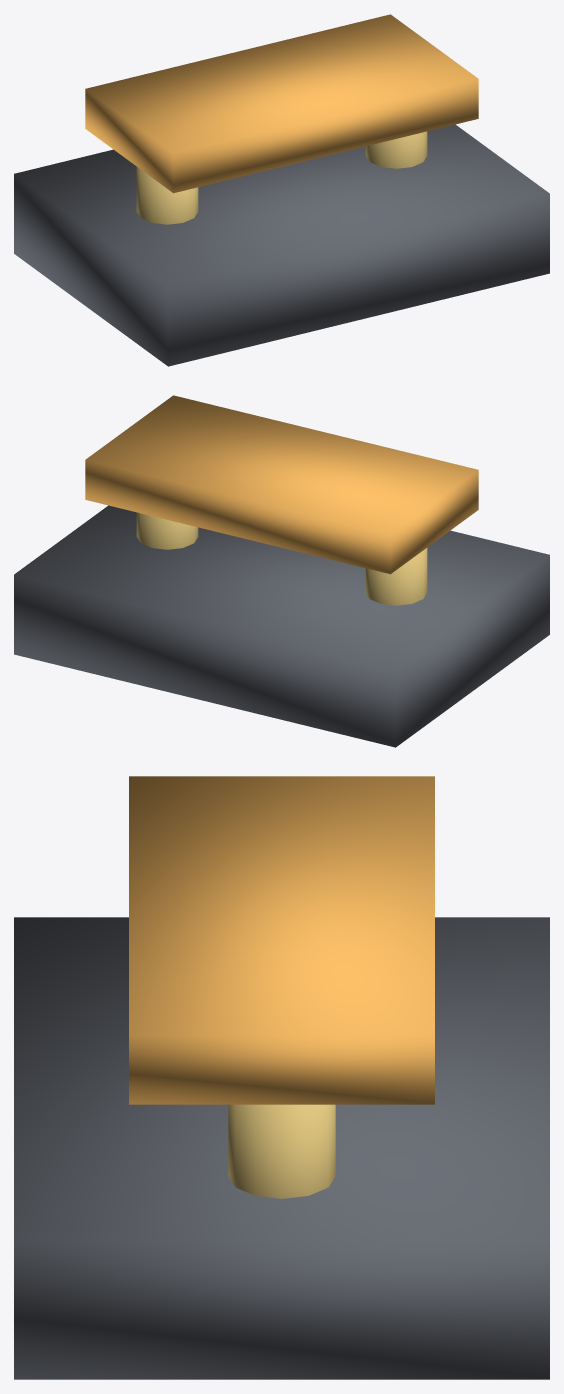
3 renders of one model, top to bottom at view 1: azimuth 30°, elevation 25°; view 2: azimuth 150°, elevation 25°; view 3: azimuth 270°, elevation 25°, orthographic. The views are drawn at different scales.
Visible parts, largest first — view 1: 185_L115_W273_0_Connector_Black, 185_L115_W273_2_Status_Amber, 185_L115_W273_1_Connector_Gold; view 2: 185_L115_W273_0_Connector_Black, 185_L115_W273_2_Status_Amber, 185_L115_W273_1_Connector_Gold; view 3: 185_L115_W273_0_Connector_Black, 185_L115_W273_2_Status_Amber, 185_L115_W273_1_Connector_Gold.
Boxes of the visible parts, bbox=[...] form: 185_L115_W273_0_Connector_Black: bbox=[14, 124, 549, 366]; 185_L115_W273_2_Status_Amber: bbox=[85, 14, 478, 193]; 185_L115_W273_1_Connector_Gold: bbox=[136, 131, 427, 224]; 185_L115_W273_0_Connector_Black: bbox=[14, 505, 549, 747]; 185_L115_W273_2_Status_Amber: bbox=[85, 395, 478, 574]; 185_L115_W273_1_Connector_Gold: bbox=[136, 512, 427, 605]; 185_L115_W273_0_Connector_Black: bbox=[14, 917, 549, 1379]; 185_L115_W273_2_Status_Amber: bbox=[129, 776, 434, 1104]; 185_L115_W273_1_Connector_Gold: bbox=[228, 1104, 335, 1198].
Size of the model in its own units: 0.01 by 0.0045 by 0.007.
